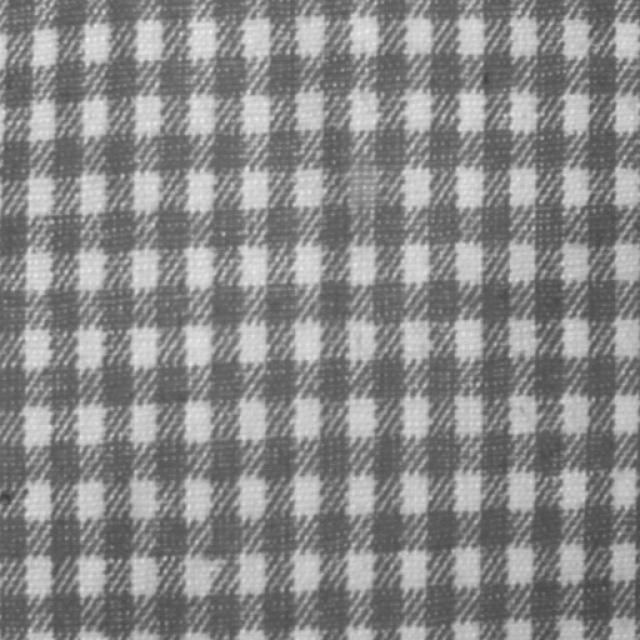Stain-Defect: (349, 159, 380, 218)
